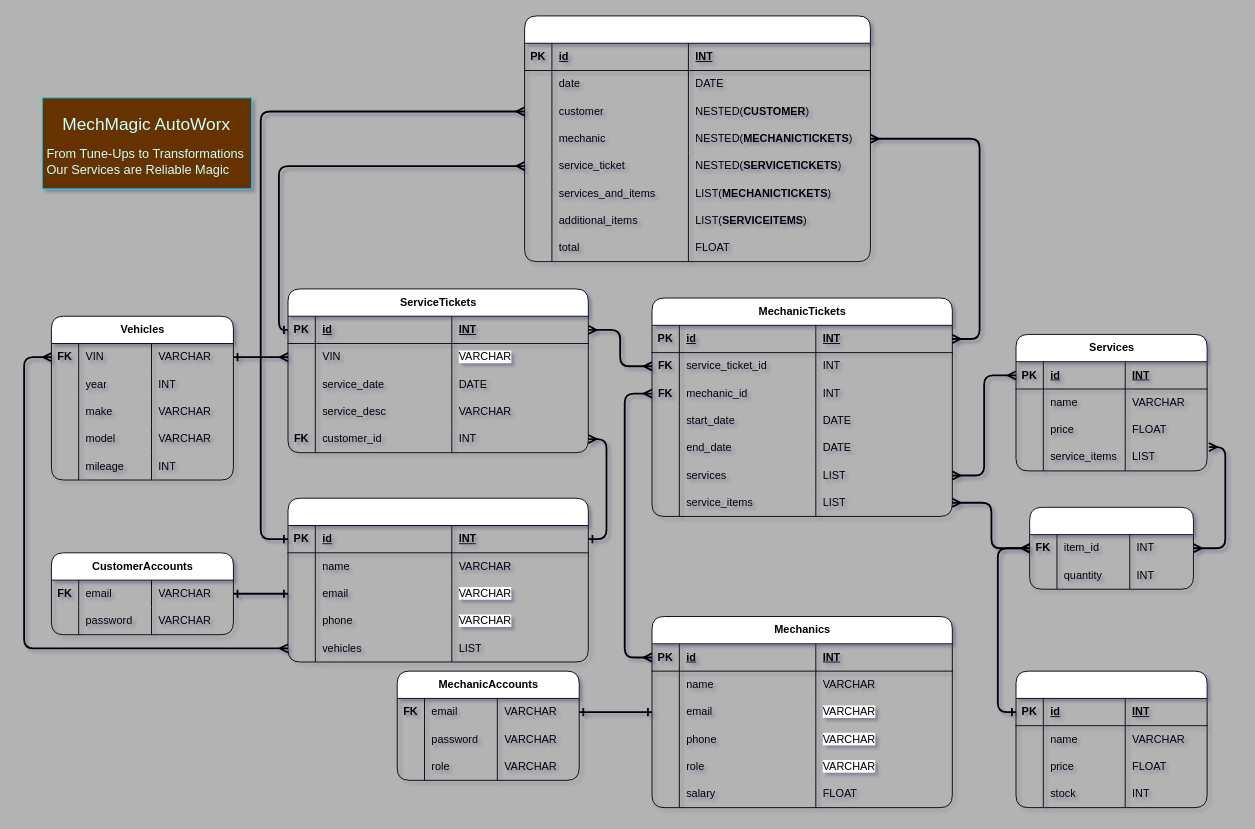
The diagram is 1255 pixels wide and 829 high, and some of its shapes have lost their labels. The box of each missing label's shape, as (x1, y1, x2, y2) in pixels:
Customers: (287, 497, 588, 662)
Inventory: (1015, 670, 1207, 808)
Invoices: (524, 15, 870, 262)
ServiceItems: (1029, 506, 1193, 589)
